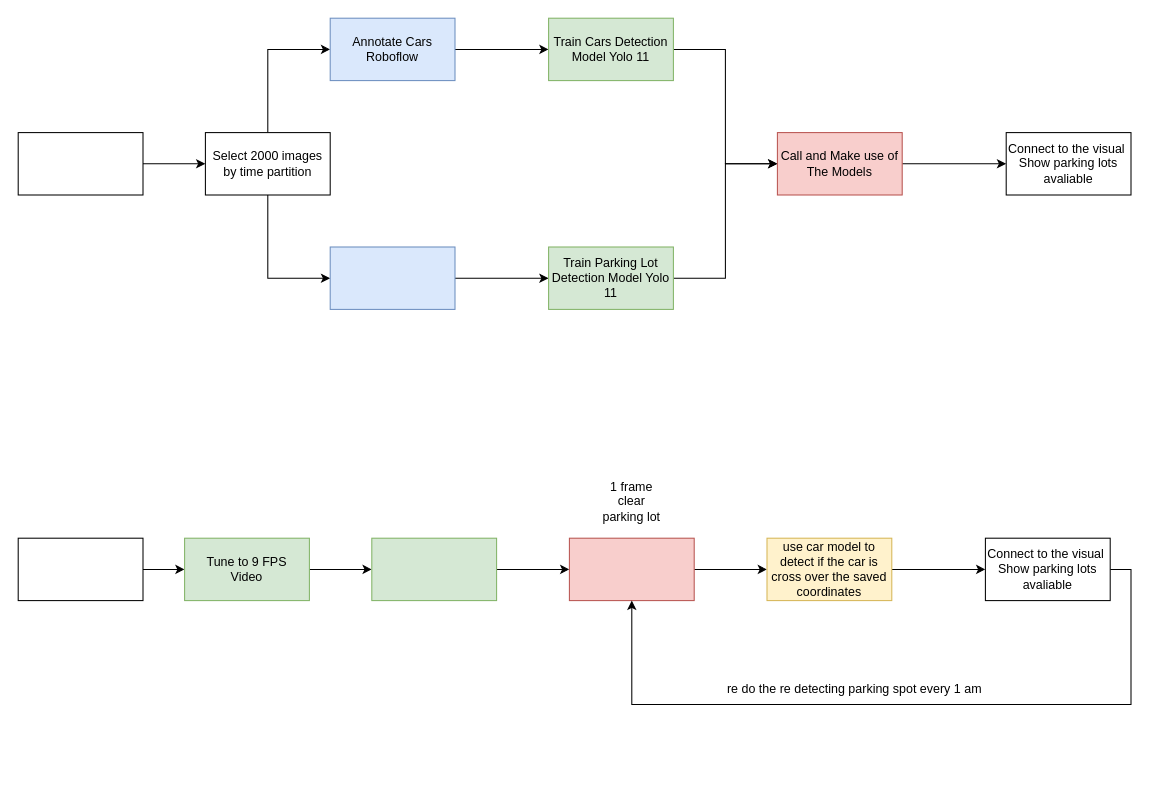
The diagram is 1158 pixels wide and 799 high, and some of its shapes have lost their labels. Here are the shapes that lost their labels. From the top down, the centre of each, then its label:
pixel 80 163: CCTV Camera Videos
pixel 392 277: Annotate Parking Lot Roboflow
pixel 80 569: Live CCTV camera
pixel 434 569: Get the picture when there is 0 to 3 cars in the parking lot
pixel 631 569: use parking spots detection model to detect the parking spots and save them
